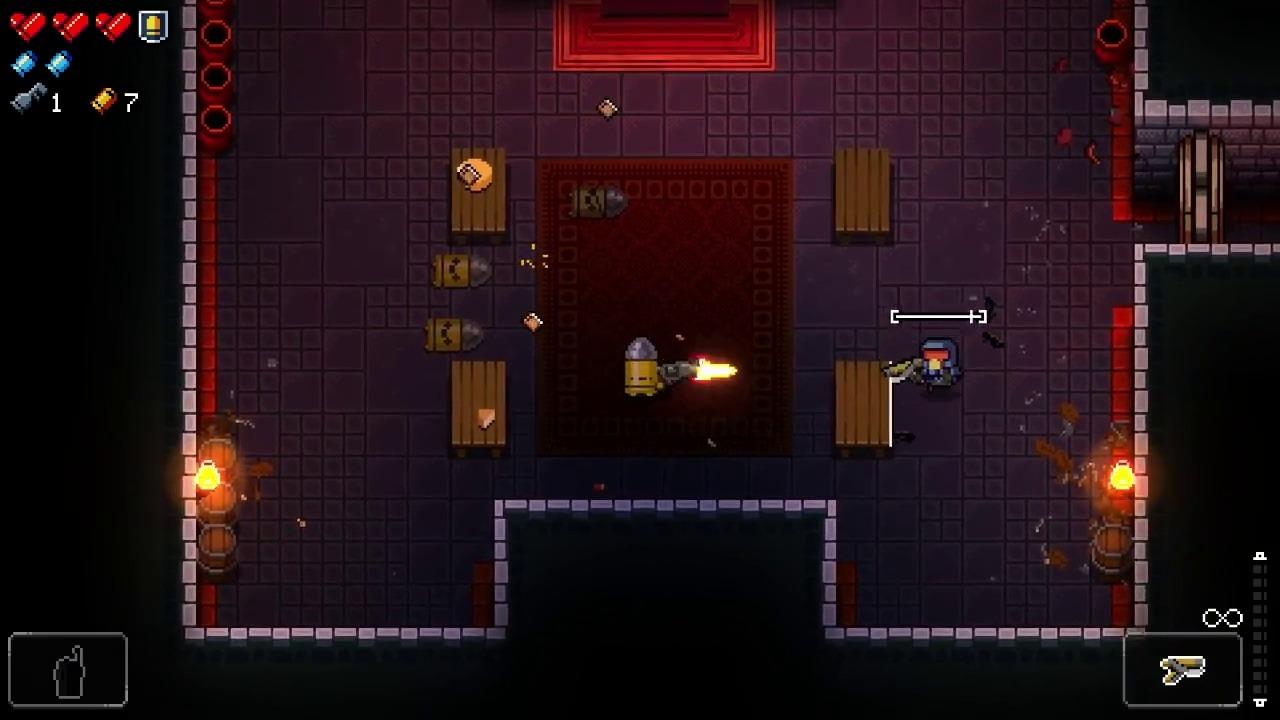bullet_kin: (625, 338, 658, 399)
dead_bullet_kin: (433, 255, 493, 289), (426, 317, 485, 351)
dead_veteran_bullet_kin: (571, 187, 628, 218)
locked_door: (1178, 129, 1226, 244)
player: (921, 338, 959, 392)
table: (836, 360, 891, 459), (836, 148, 890, 247), (453, 146, 506, 244), (452, 361, 504, 458)
